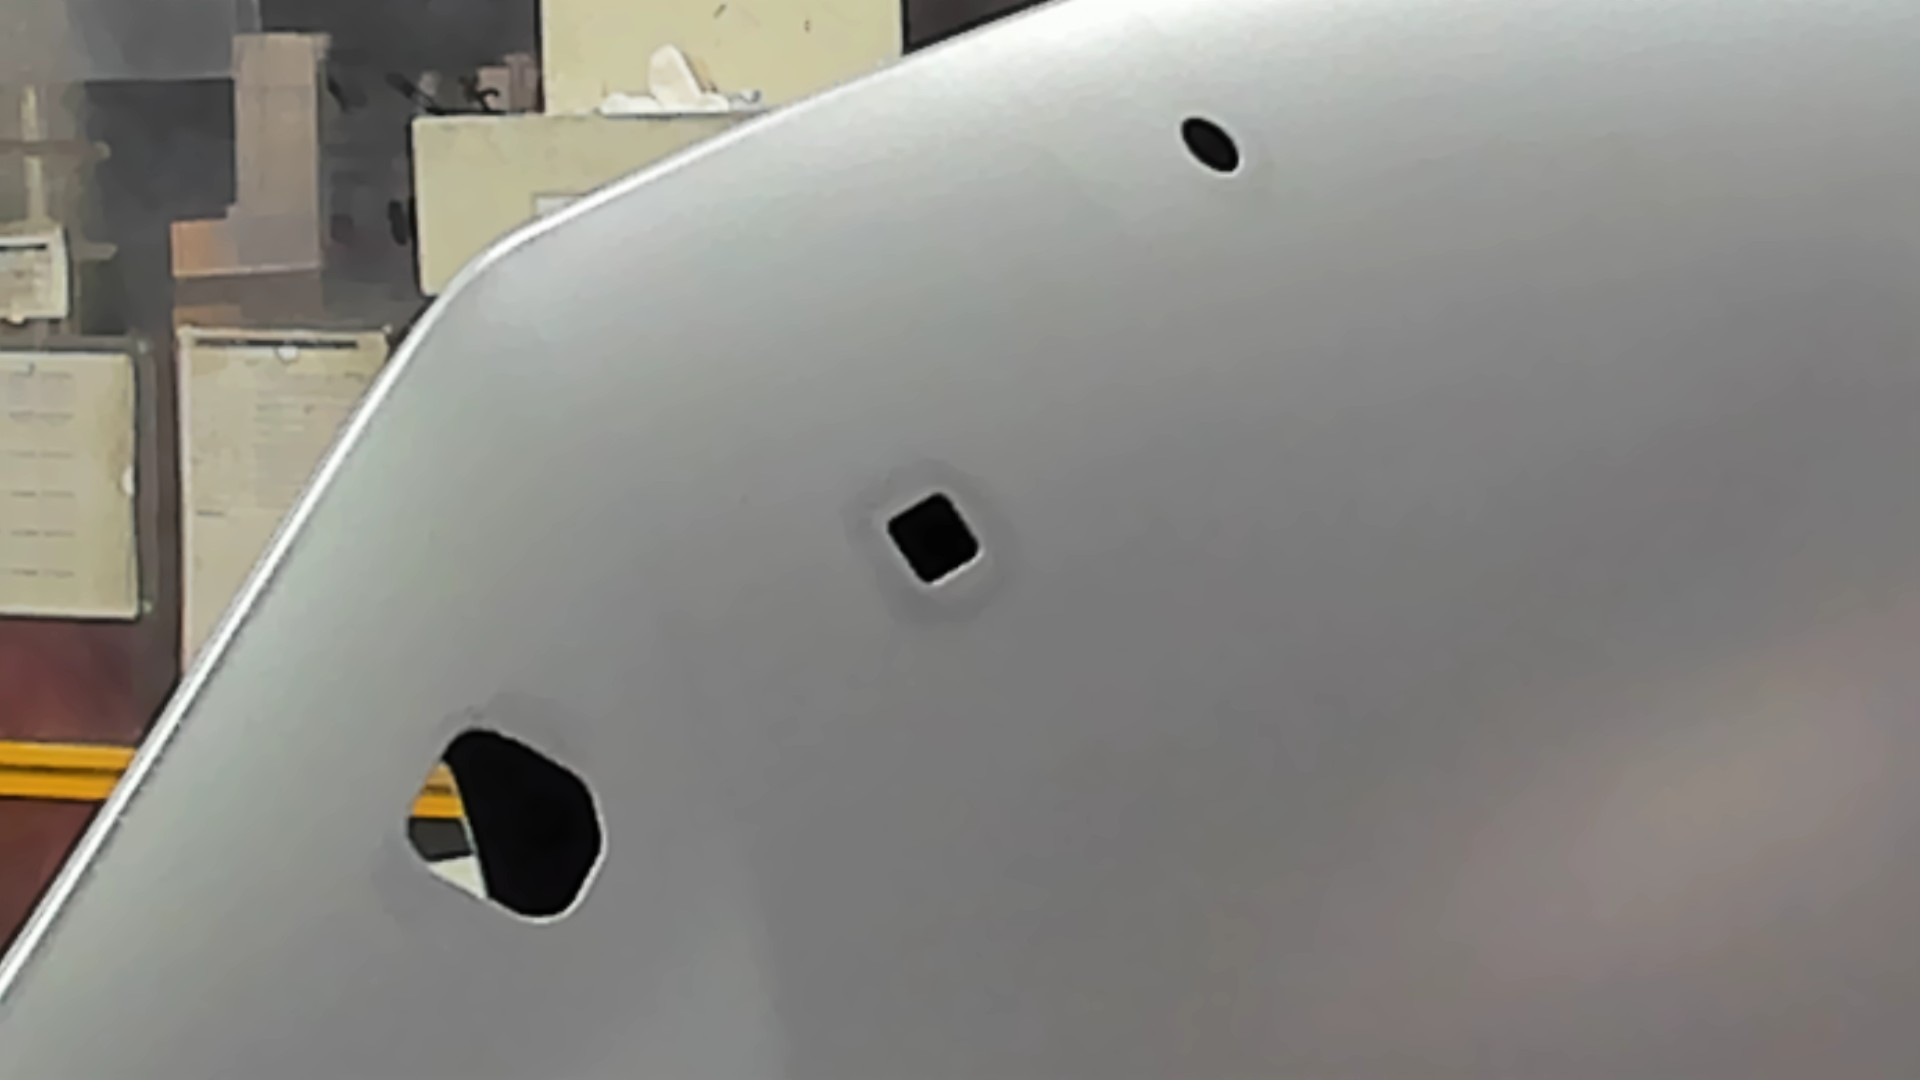chico: (1174, 113, 1246, 178)
grande: (396, 717, 611, 931)
mediano: (880, 487, 988, 589)
